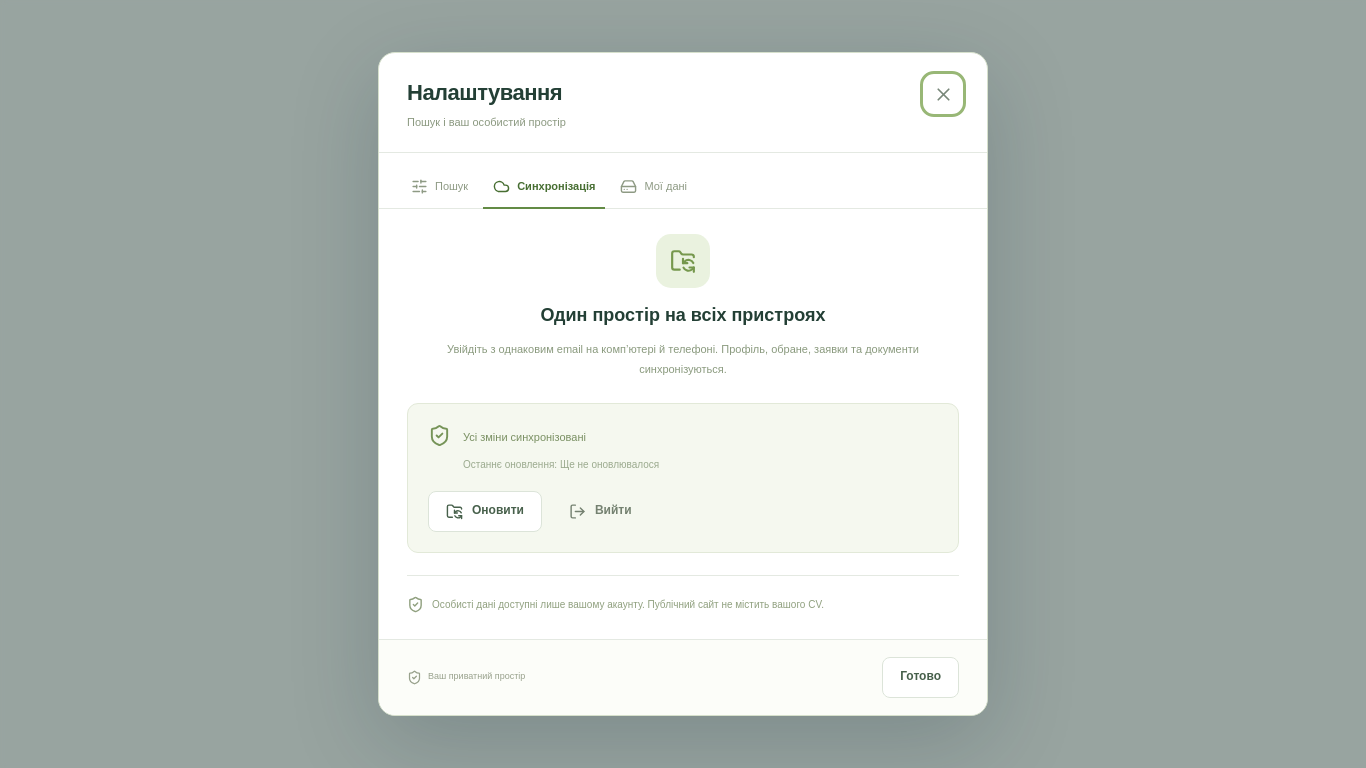
sign-out and the local copy › does not carry a deletion confirmation over to another account
Click the button "Вийти": (600, 511) [551, 491, 650, 532]
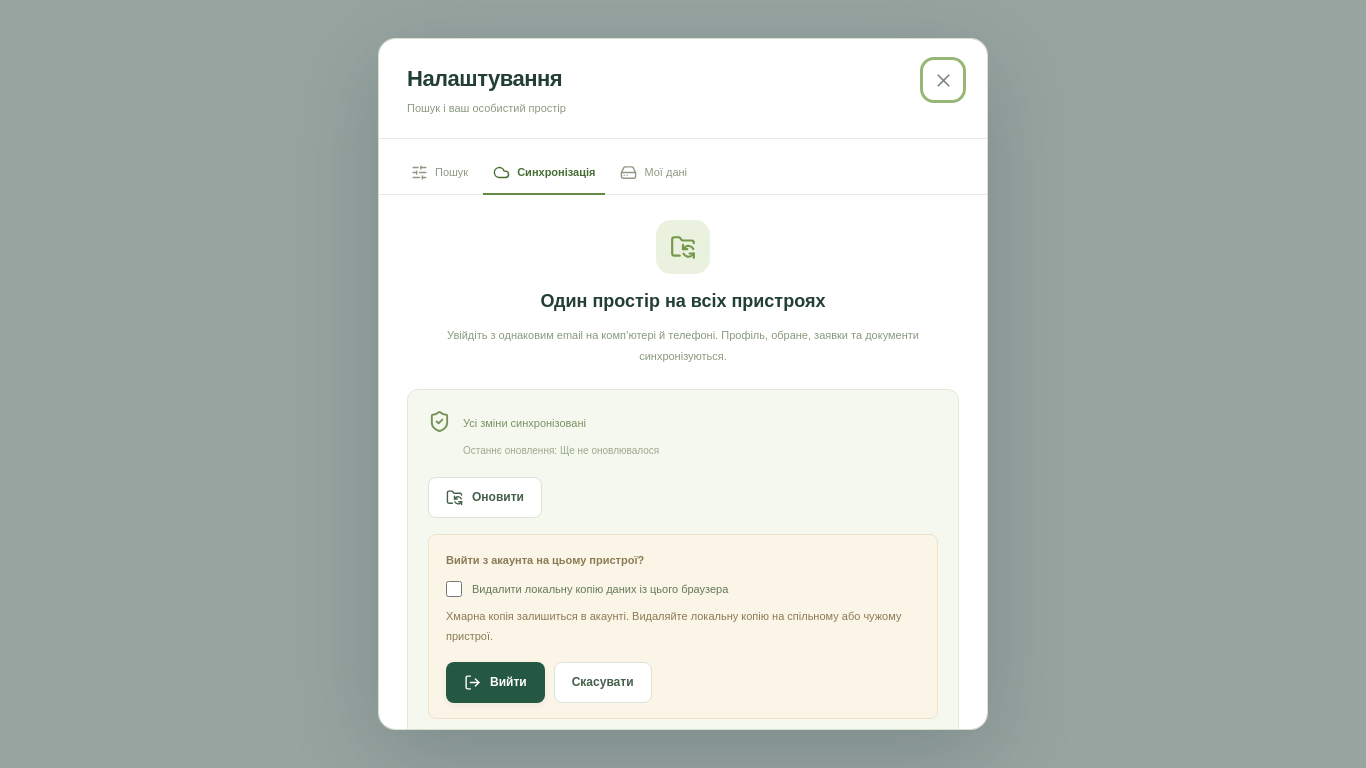
Click the checkbox labelled "Видалити локальну копію даних із цього браузера": (454, 589) [446, 581, 462, 597]
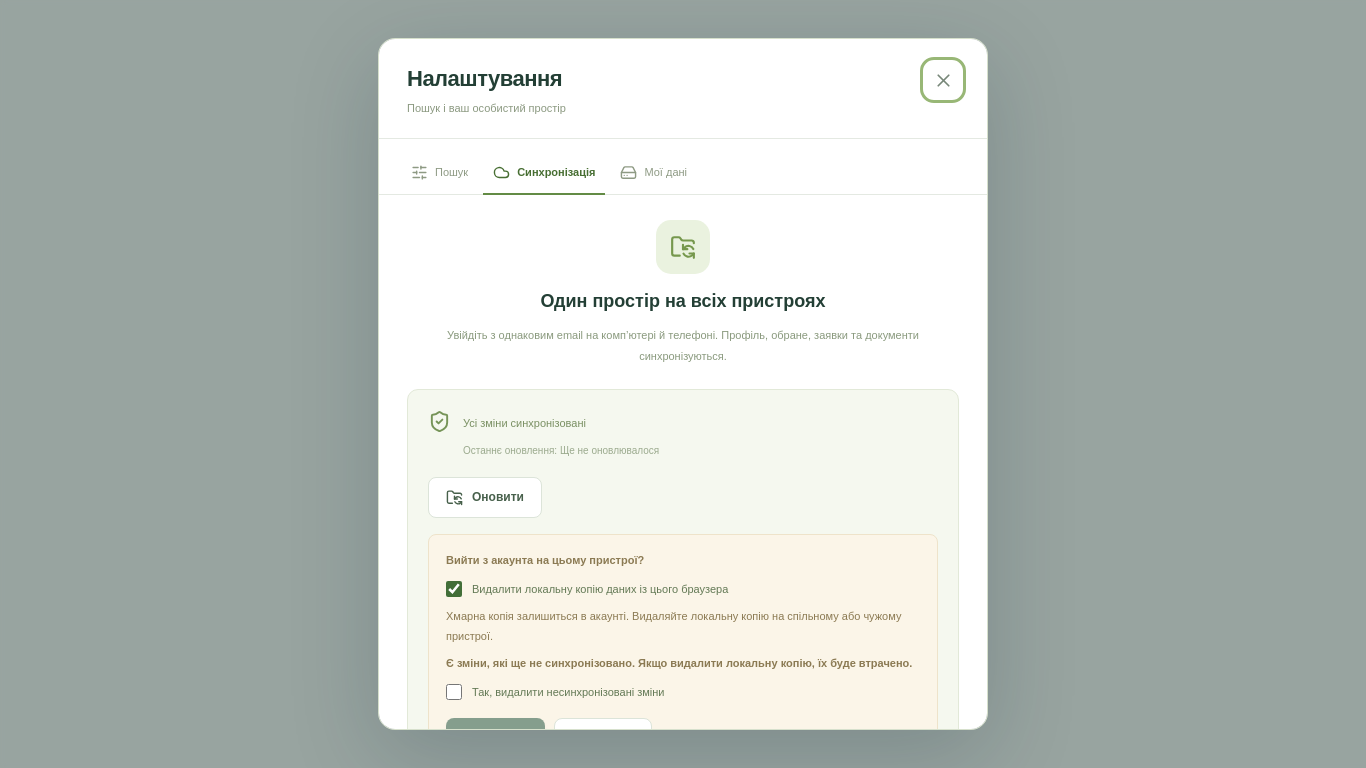
Click the checkbox labelled "Так, видалити несинхронізовані зміни": (454, 692) [446, 684, 462, 700]
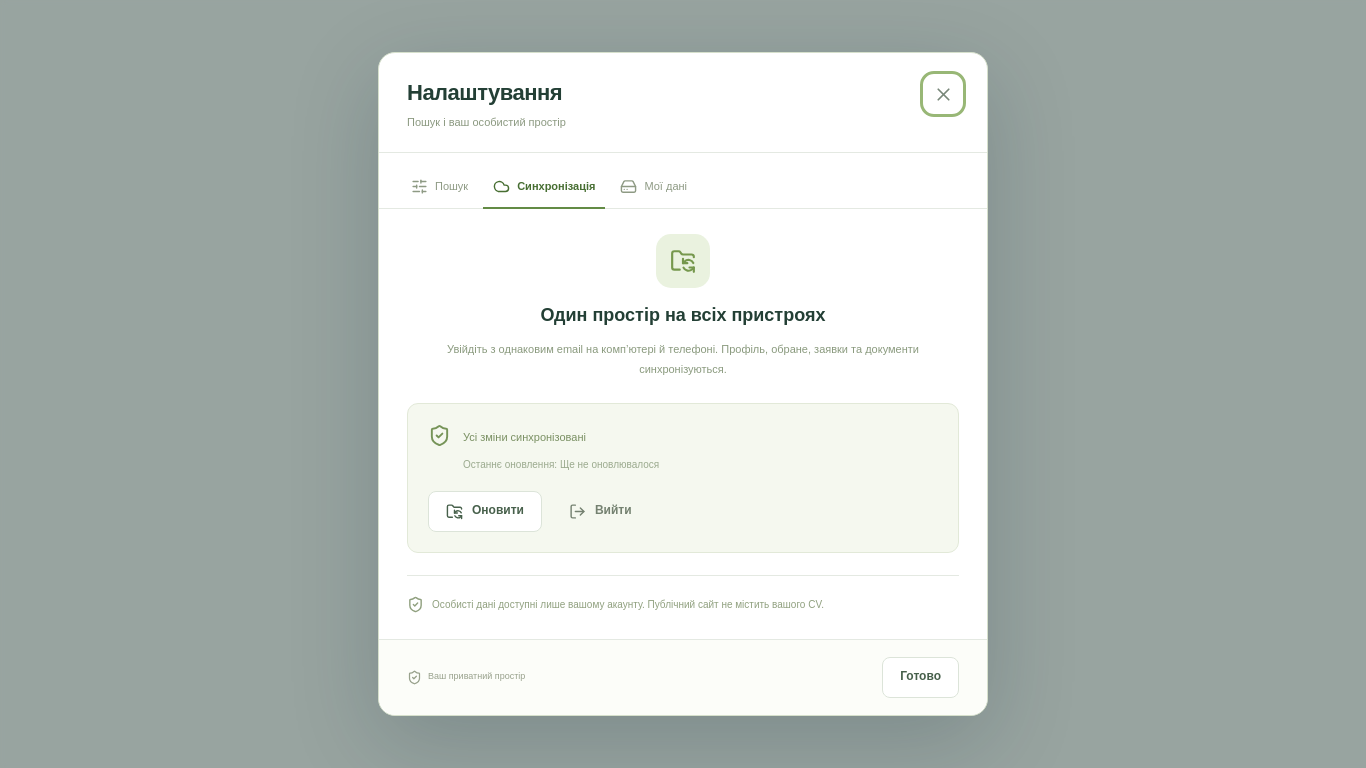
Click the button "Вийти": (600, 511) [551, 491, 650, 532]
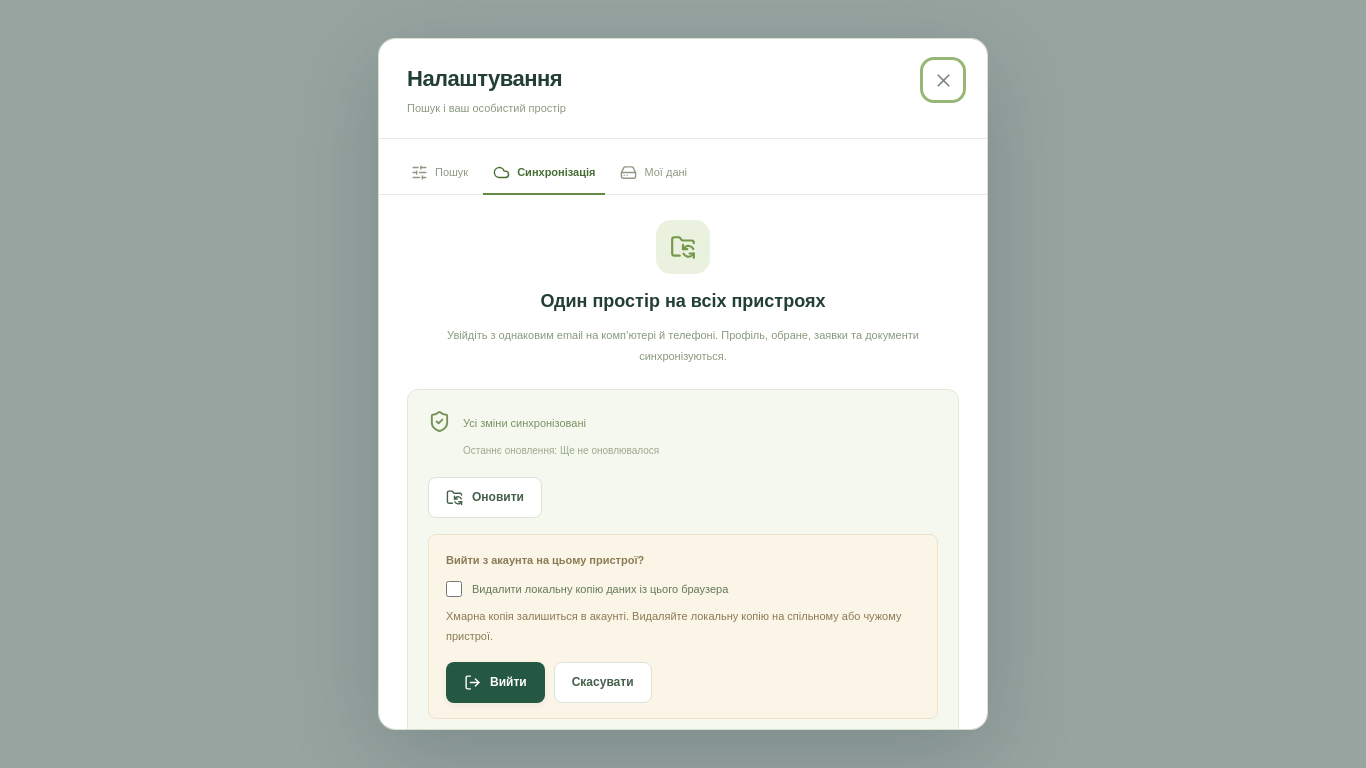
Now the checkbox labelled "Видалити локальну копію даних із цього браузера" is not checked, box [446, 581, 462, 597]
